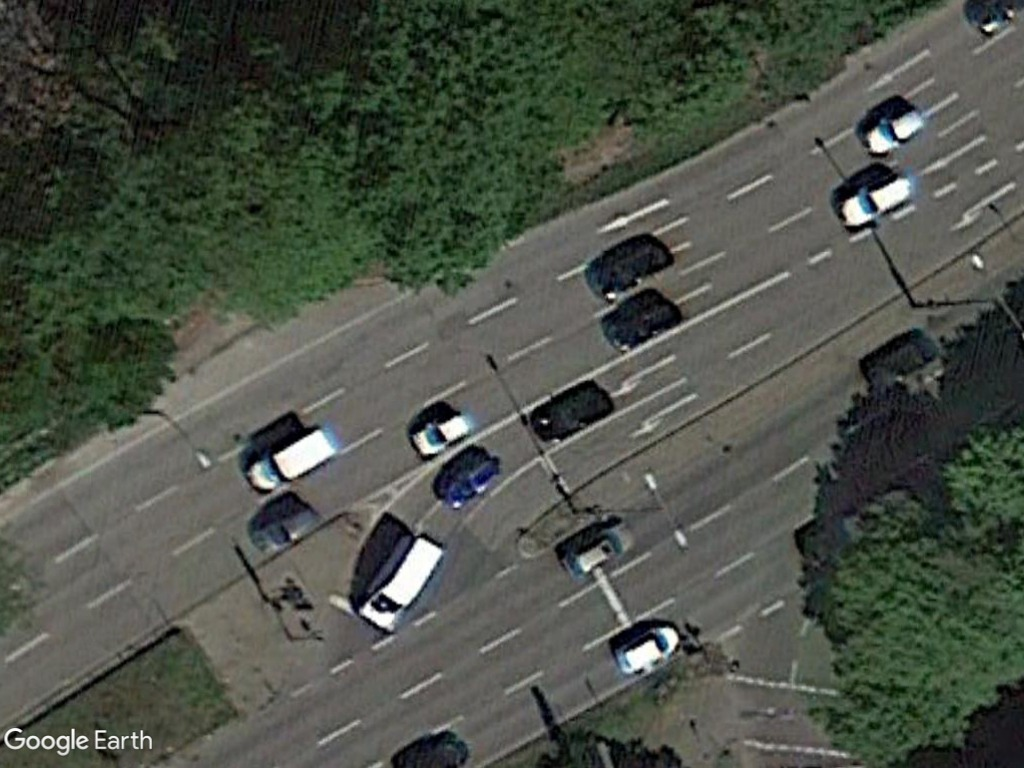car: (831, 171, 918, 235), (561, 519, 638, 581), (606, 621, 685, 679), (861, 104, 928, 155), (408, 411, 475, 460)
van: (350, 530, 446, 635), (243, 422, 342, 498)
